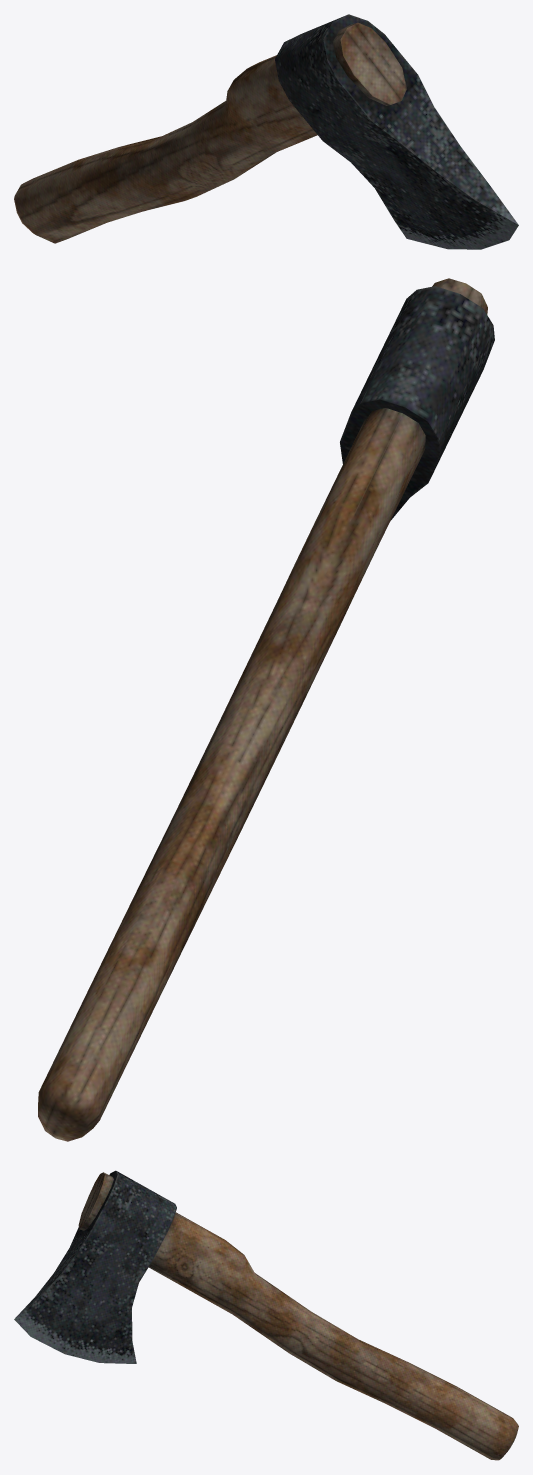
Rendered from Axe.fbx.
3 renders of one model, top to bottom at view 1: azimuth 30°, elevation 25°; view 2: azimuth 150°, elevation 25°; view 3: azimuth 270°, elevation 25°, orthographic. The views are drawn at different scales.
Visible parts, largest first — view 1: Axe; view 2: Axe; view 3: Axe.
Part boxes in pixels (<box>): Axe: <box>14,14,518,249</box>; Axe: <box>38,278,494,1141</box>; Axe: <box>14,1170,518,1460</box>.
Bounding box in the file's own units: 9.95 × 31.38 × 50.07.
Materials: 1 (1 with a texture image).
